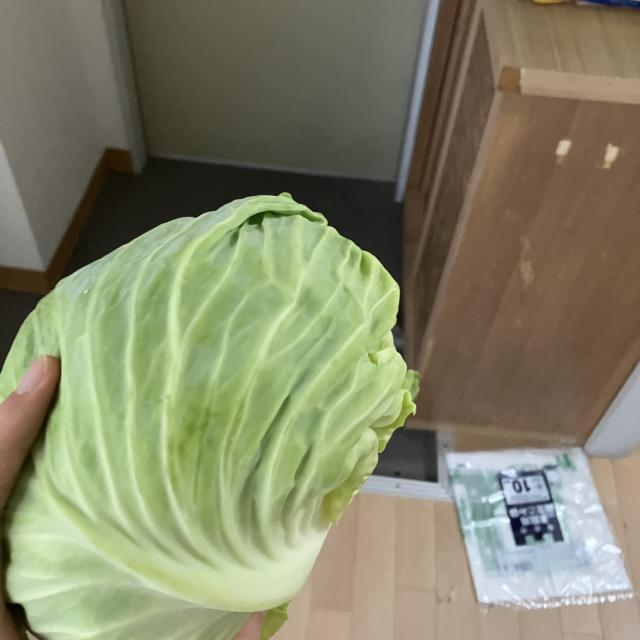cabbage: (0, 188, 425, 639)
